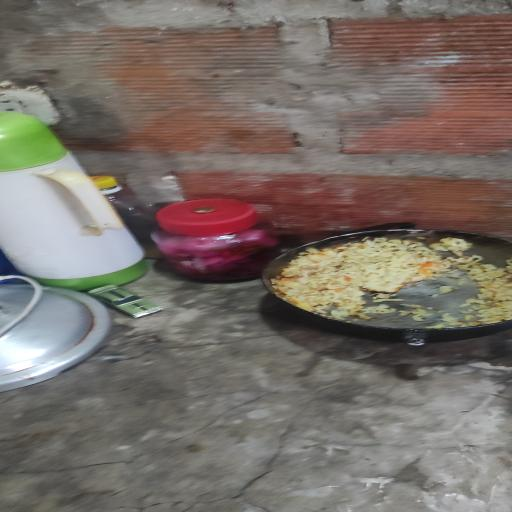Carrito: (88, 285, 163, 318)
